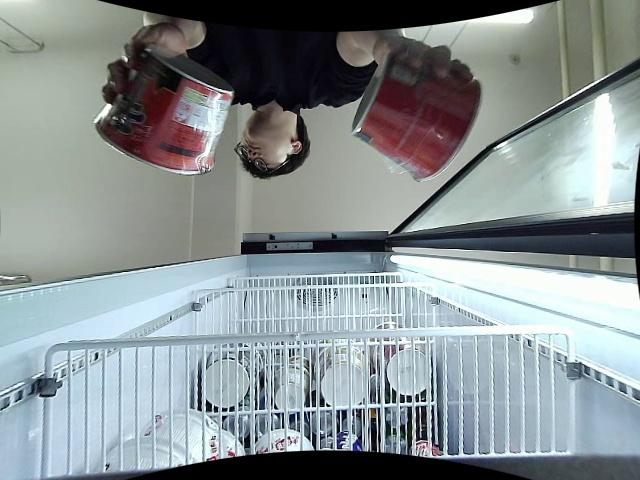00_hand: (101, 23, 185, 105), (374, 35, 475, 85)
01_shinRamen_L: (93, 45, 235, 175), (351, 55, 484, 181)
